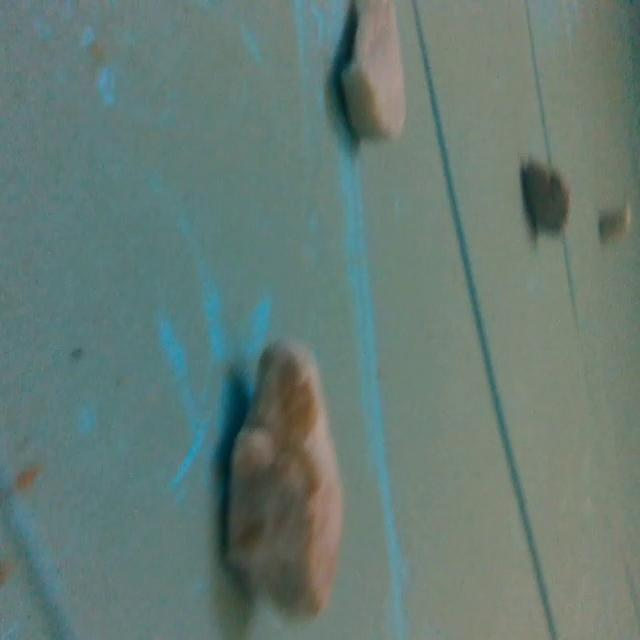rock: (222, 336, 352, 628), (333, 0, 413, 148), (515, 152, 572, 237), (597, 194, 630, 244)
